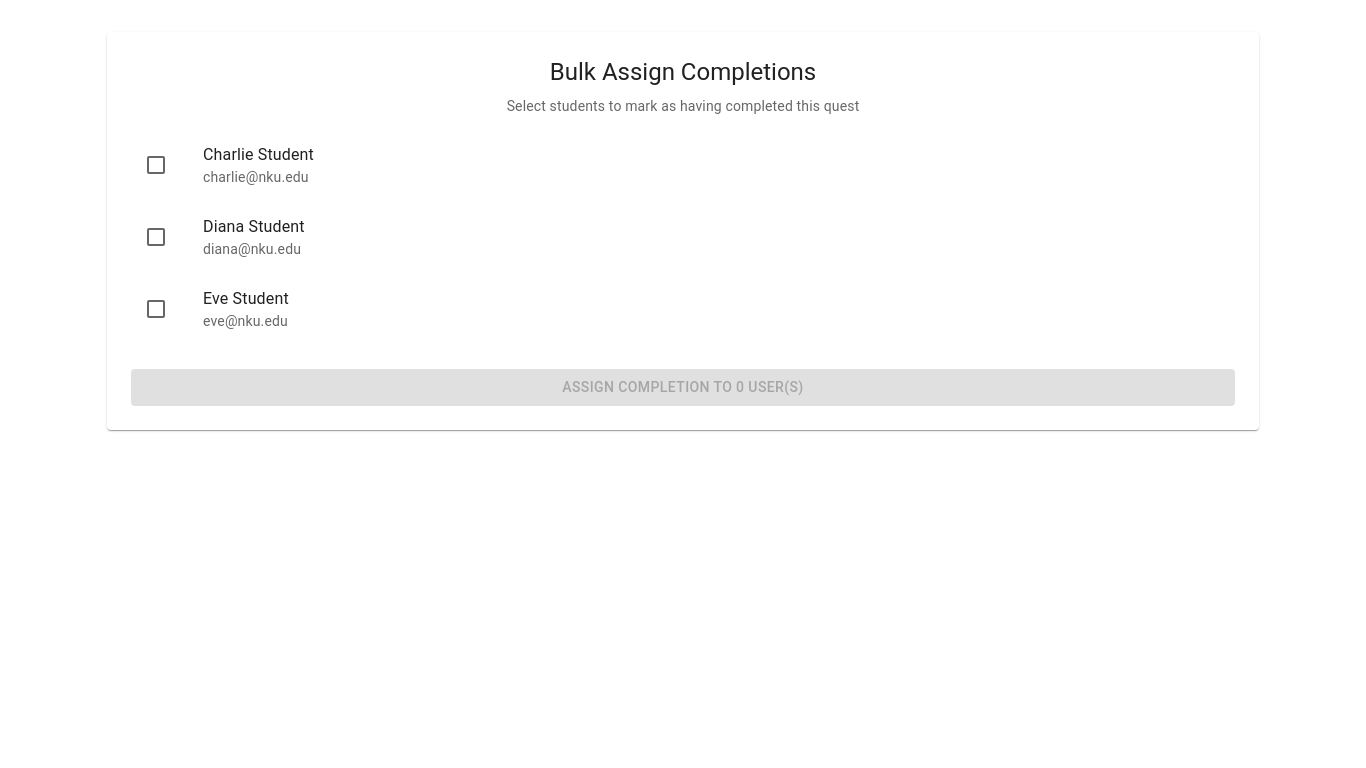
it: Completion Workflow - Bulk Assignment › should bulk assign completions to selected users
The image size is (1366, 768).
Expected: the text "Charlie Student" is shown, [203, 145, 314, 164]
// Select multiple users (implementation depends on component design)
Click the 1st checkbox.
click(156, 165)  # box [144, 153, 168, 177]
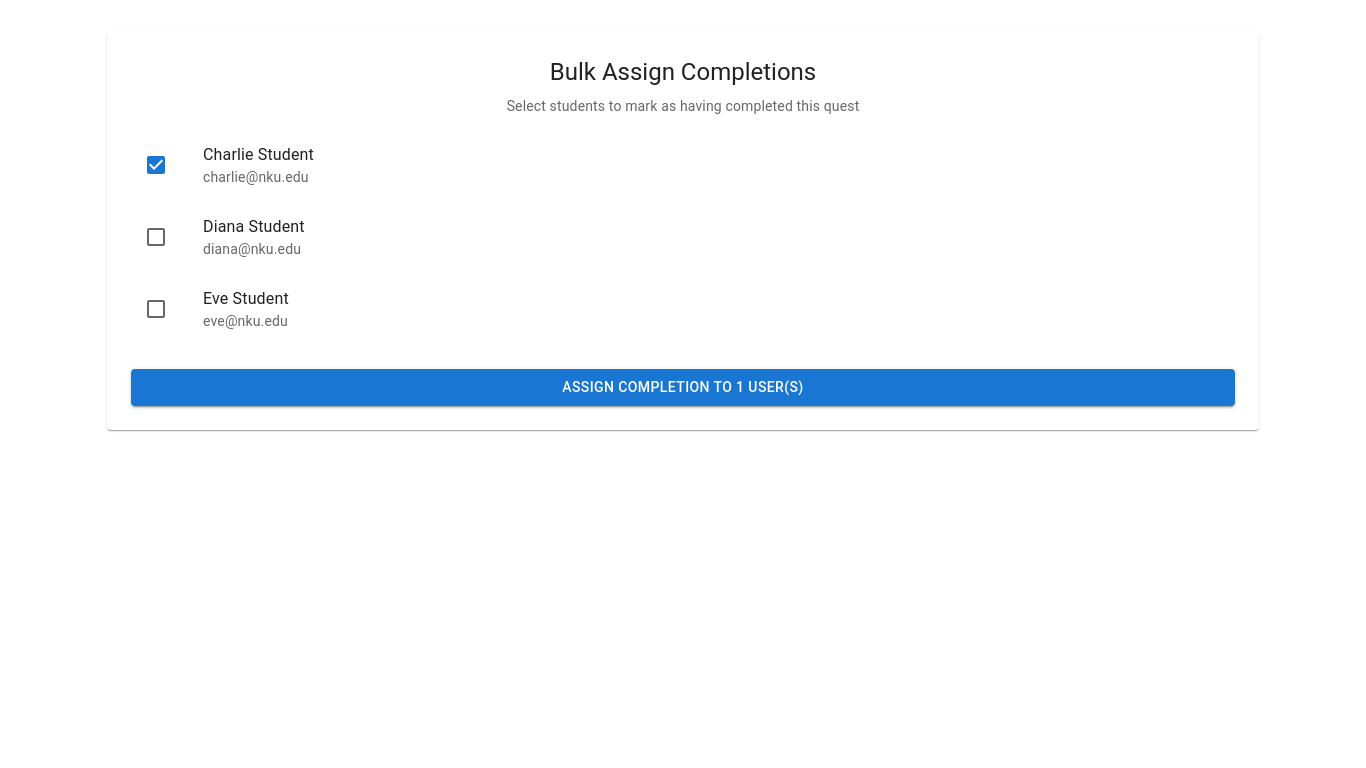
Click the 2nd checkbox.
click(156, 237)  # box [144, 225, 168, 249]
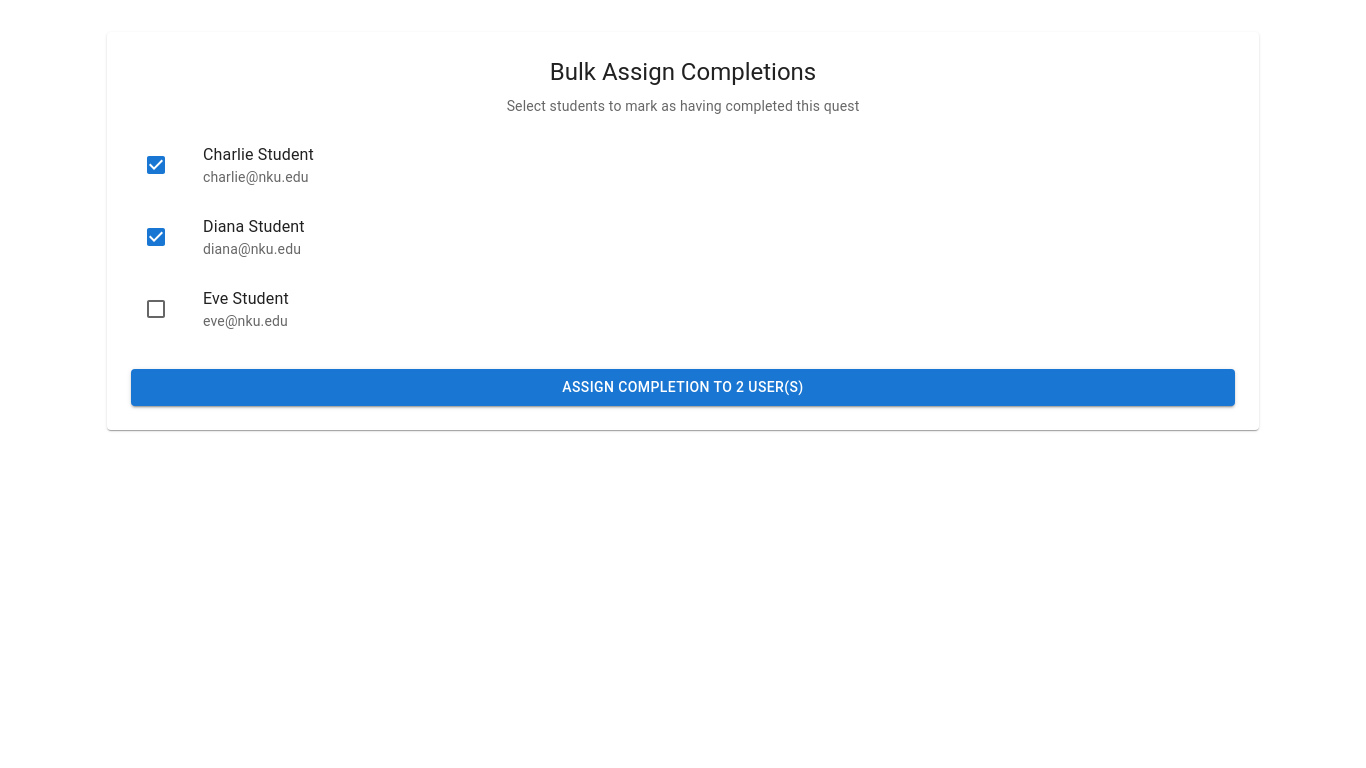
Click the button "Assign Completion to 2 User(s)".
click(683, 388)  # box [131, 369, 1235, 406]
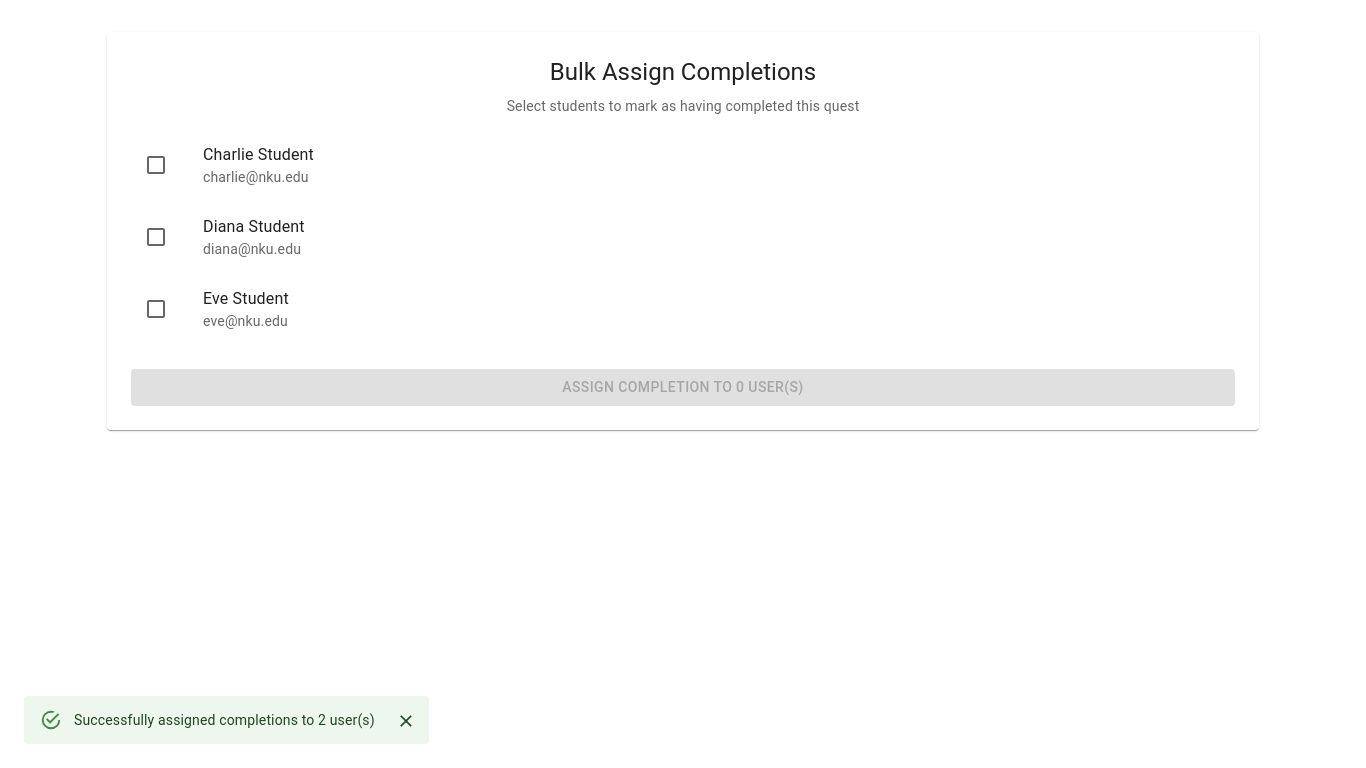
Now the text "Successfully assigned completions to 2 user(s)" is shown, box [74, 712, 375, 728]
